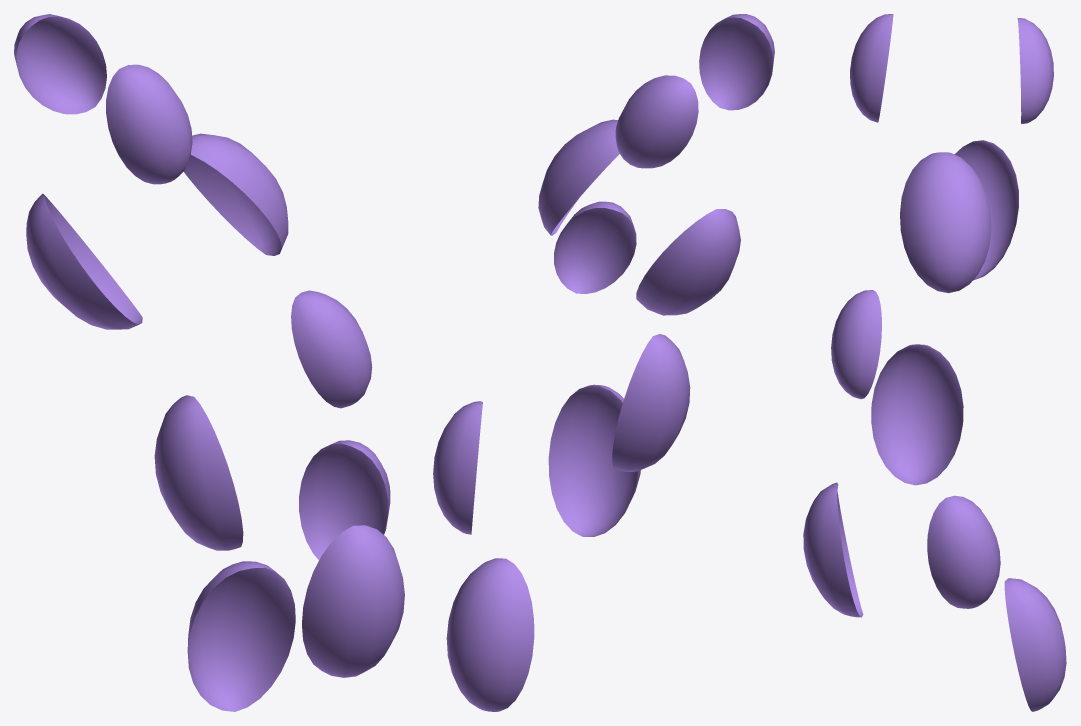
Rendered from TubePlant1GlowParts.fbx.
3 views of the same model, side by side, from view 1: azimuth 30°, elevation 25°; view 2: azimuth 150°, elevation 25°; view 3: azimuth 270°, elevation 25° (orthographic). The views are drawn at different scales.
Parts seen in each view (by area): view 1: pasted__pasted__pSphere1 (×4), pasted__pSphere1 (×3), pasted__pasted__pasted__pSphere1, pSphere1; view 2: pasted__pasted__pSphere1 (×4), pasted__pSphere1 (×3), pasted__pasted__pasted__pSphere1, pSphere1; view 3: pasted__pasted__pSphere1 (×4), pasted__pSphere1 (×3), pasted__pasted__pasted__pSphere1, pSphere1.
Part boxes in pixels (box(x1,y1,x2,y2)): pasted__pasted__pSphere1 (×4): box(26, 193, 404, 677); pasted__pSphere1 (×3): box(14, 14, 372, 408); pasted__pasted__pasted__pSphere1: box(187, 561, 295, 711); pSphere1: box(106, 64, 192, 184); pasted__pasted__pSphere1 (×4): box(433, 209, 740, 536); pasted__pSphere1 (×3): box(538, 75, 698, 293); pasted__pasted__pasted__pSphere1: box(446, 558, 534, 711); pSphere1: box(699, 14, 774, 110); pasted__pasted__pSphere1 (×4): box(803, 140, 1018, 617); pasted__pSphere1 (×3): box(831, 18, 1053, 399); pasted__pasted__pasted__pSphere1: box(1004, 578, 1066, 711); pSphere1: box(850, 14, 893, 122).
Size of the model in its own units: 8.37 by 17.79 by 6.88.
